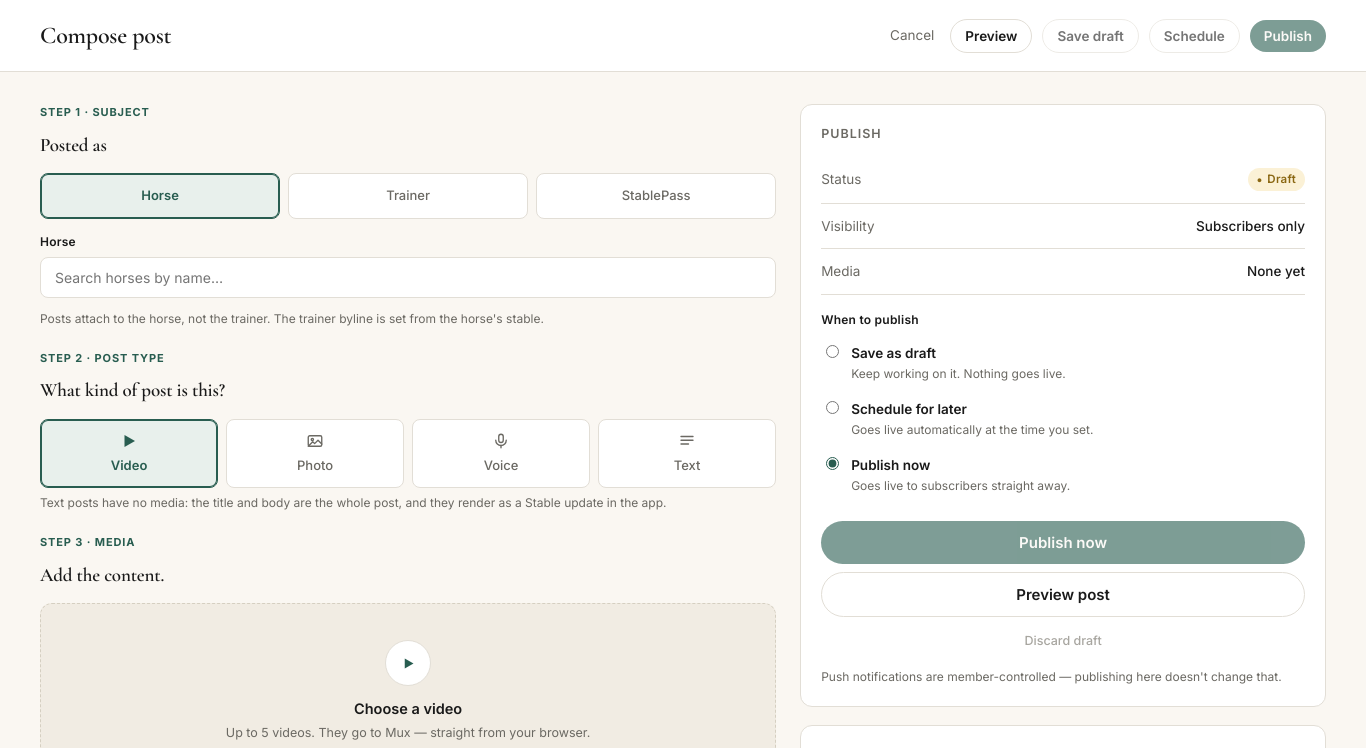
ENG-745 · the horse picker is not truncated at 8 › lists every horse with an empty query, not just the first 8
The image size is (1366, 748).
Focus the field with test id "horse-search". click: (408, 277)
box: [40,256,776,298]
(page scrolled)
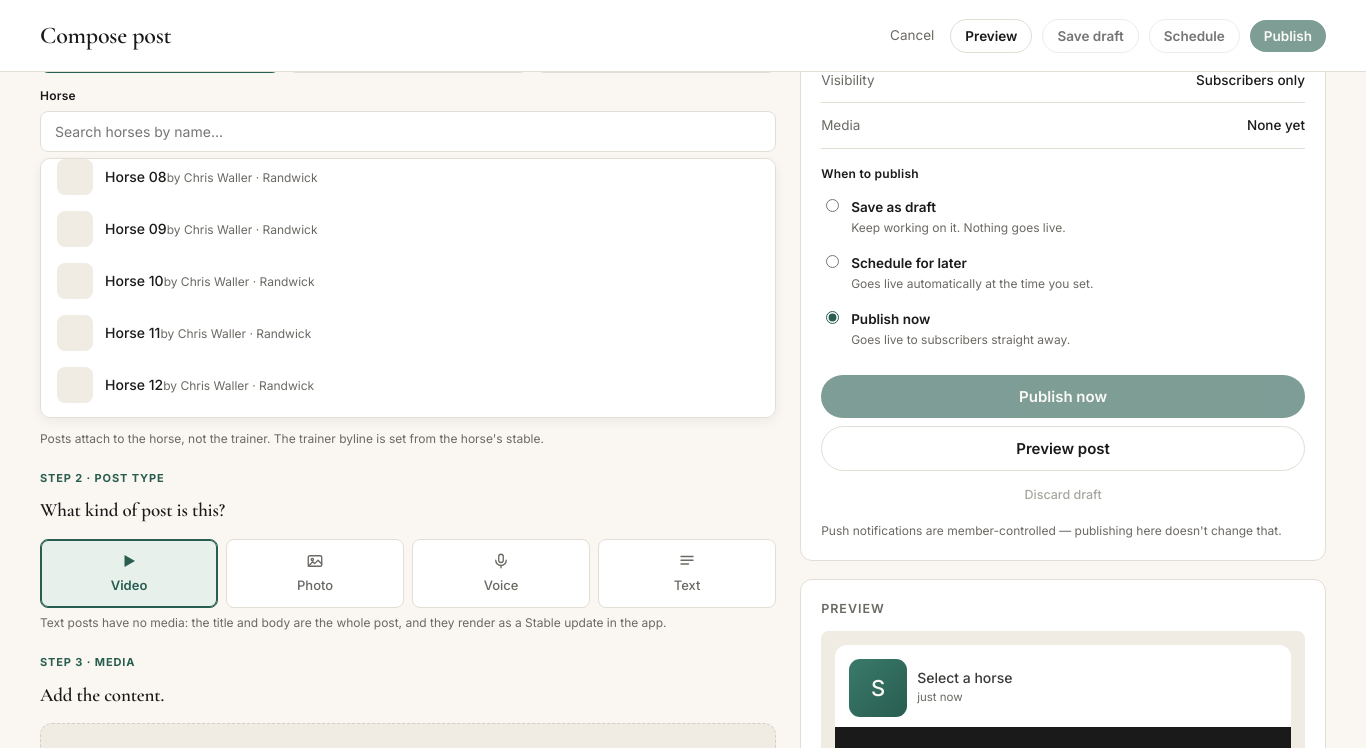
Expected: the button with test id "horse-opt-hz9" is shown, [47,202,769,254]
Expected: the button with test id "horse-opt-hz12" is shown, [47,358,769,410]
